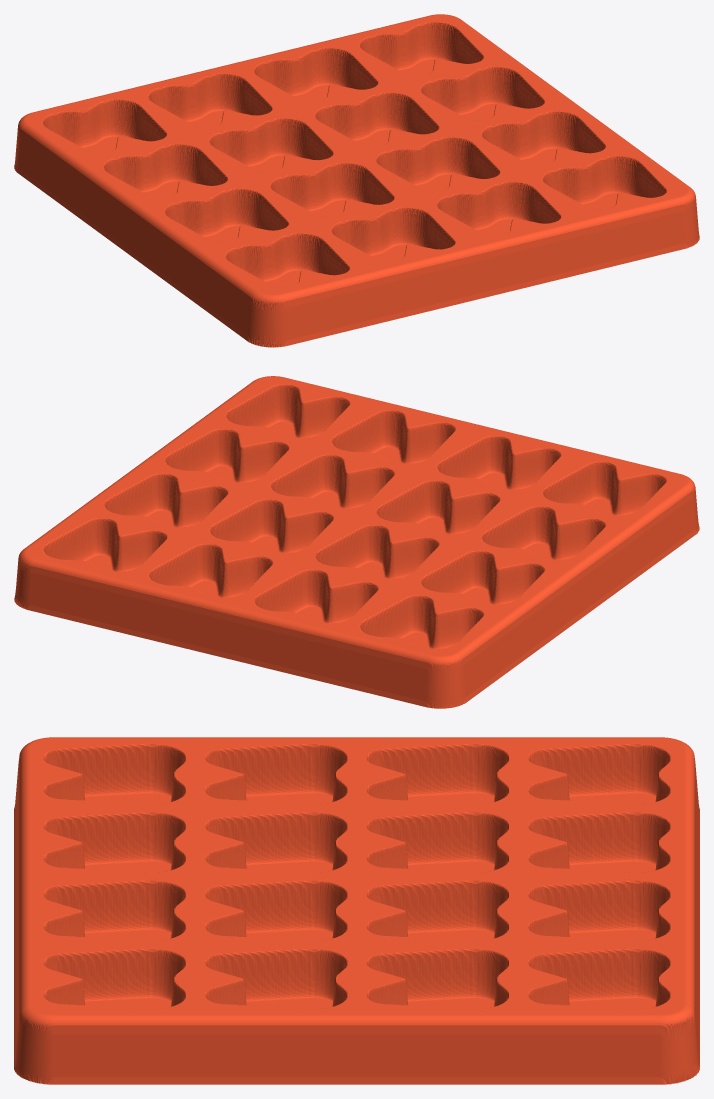
File: mold.glb
3 views of the same model, one above another, from view 1: azimuth 30°, elevation 25°; view 2: azimuth 150°, elevation 25°; view 3: azimuth 270°, elevation 25° (orthographic). The views are drawn at different scales.
Parts seen in each view (by area): view 1: geometry_0; view 2: geometry_0; view 3: geometry_0.
Part boxes in pixels (x1,y1,x2,y2): geometry_0: [14, 14, 699, 347]; geometry_0: [14, 376, 699, 708]; geometry_0: [14, 737, 699, 1084].
Size of the model in its own units: 0.1569 by 0.0159 by 0.1569.
